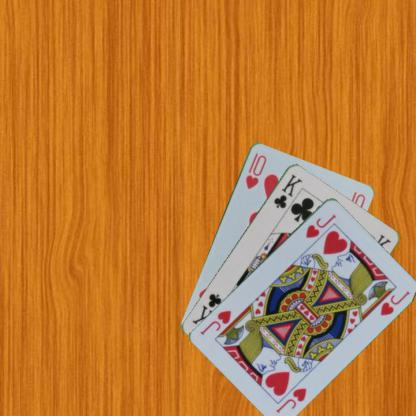10h: (243, 150, 268, 190)
Jh: (273, 385, 308, 414), (303, 211, 338, 239)
Kc: (270, 171, 304, 210)
